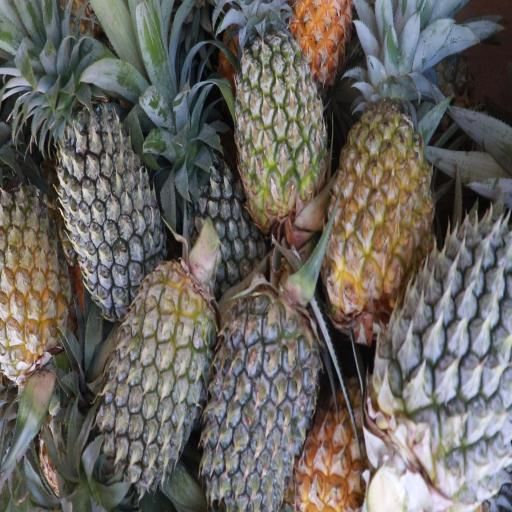------------------------------: (240, 25, 328, 220)
Pineapple - v8 v1: (326, 104, 436, 325), (0, 191, 71, 369)
